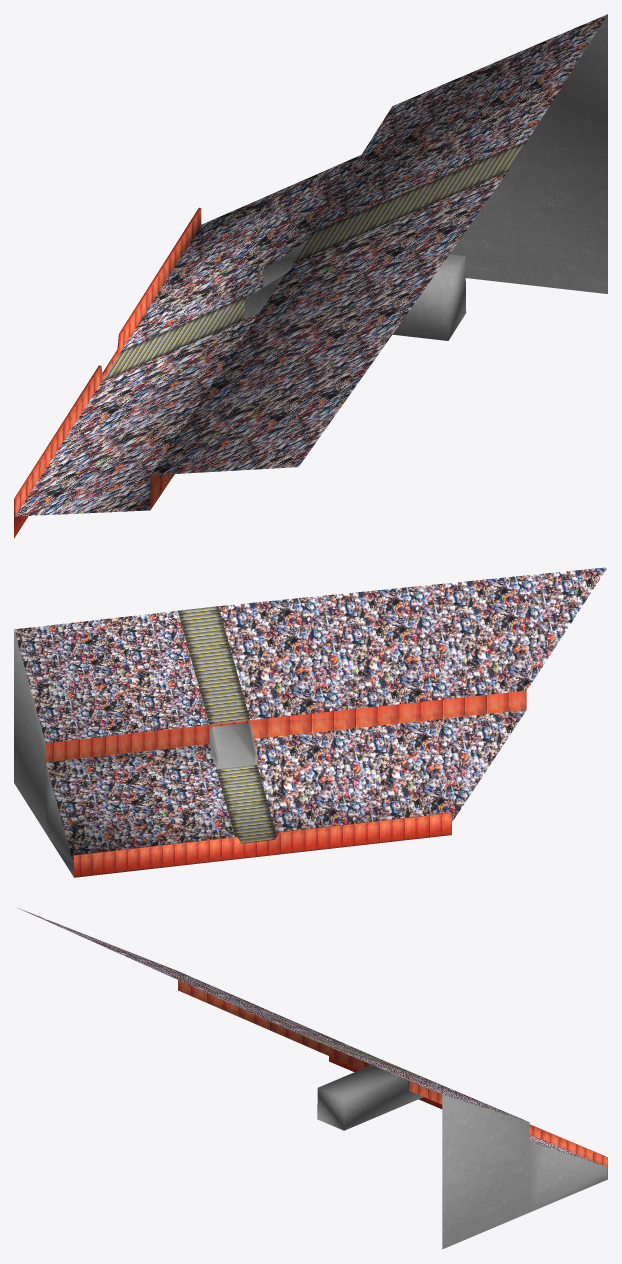
Rendered from tribune_corner_upper_01.fbx.
The picture shows the model from 3 angles, top to bottom: view 1: azimuth 30°, elevation 25°; view 2: azimuth 150°, elevation 25°; view 3: azimuth 270°, elevation 25°; orthographic projection. The views are drawn at different scales.
Visible parts, largest first — view 1: Cube_008; view 2: Cube_008; view 3: Cube_008.
Boxes of the visible parts, <box> form: Cube_008: <box>14,14,607,538</box>; Cube_008: <box>14,567,607,877</box>; Cube_008: <box>17,907,607,1249</box>.
Size of the model in its own units: 62.44 by 24 by 83.34.
